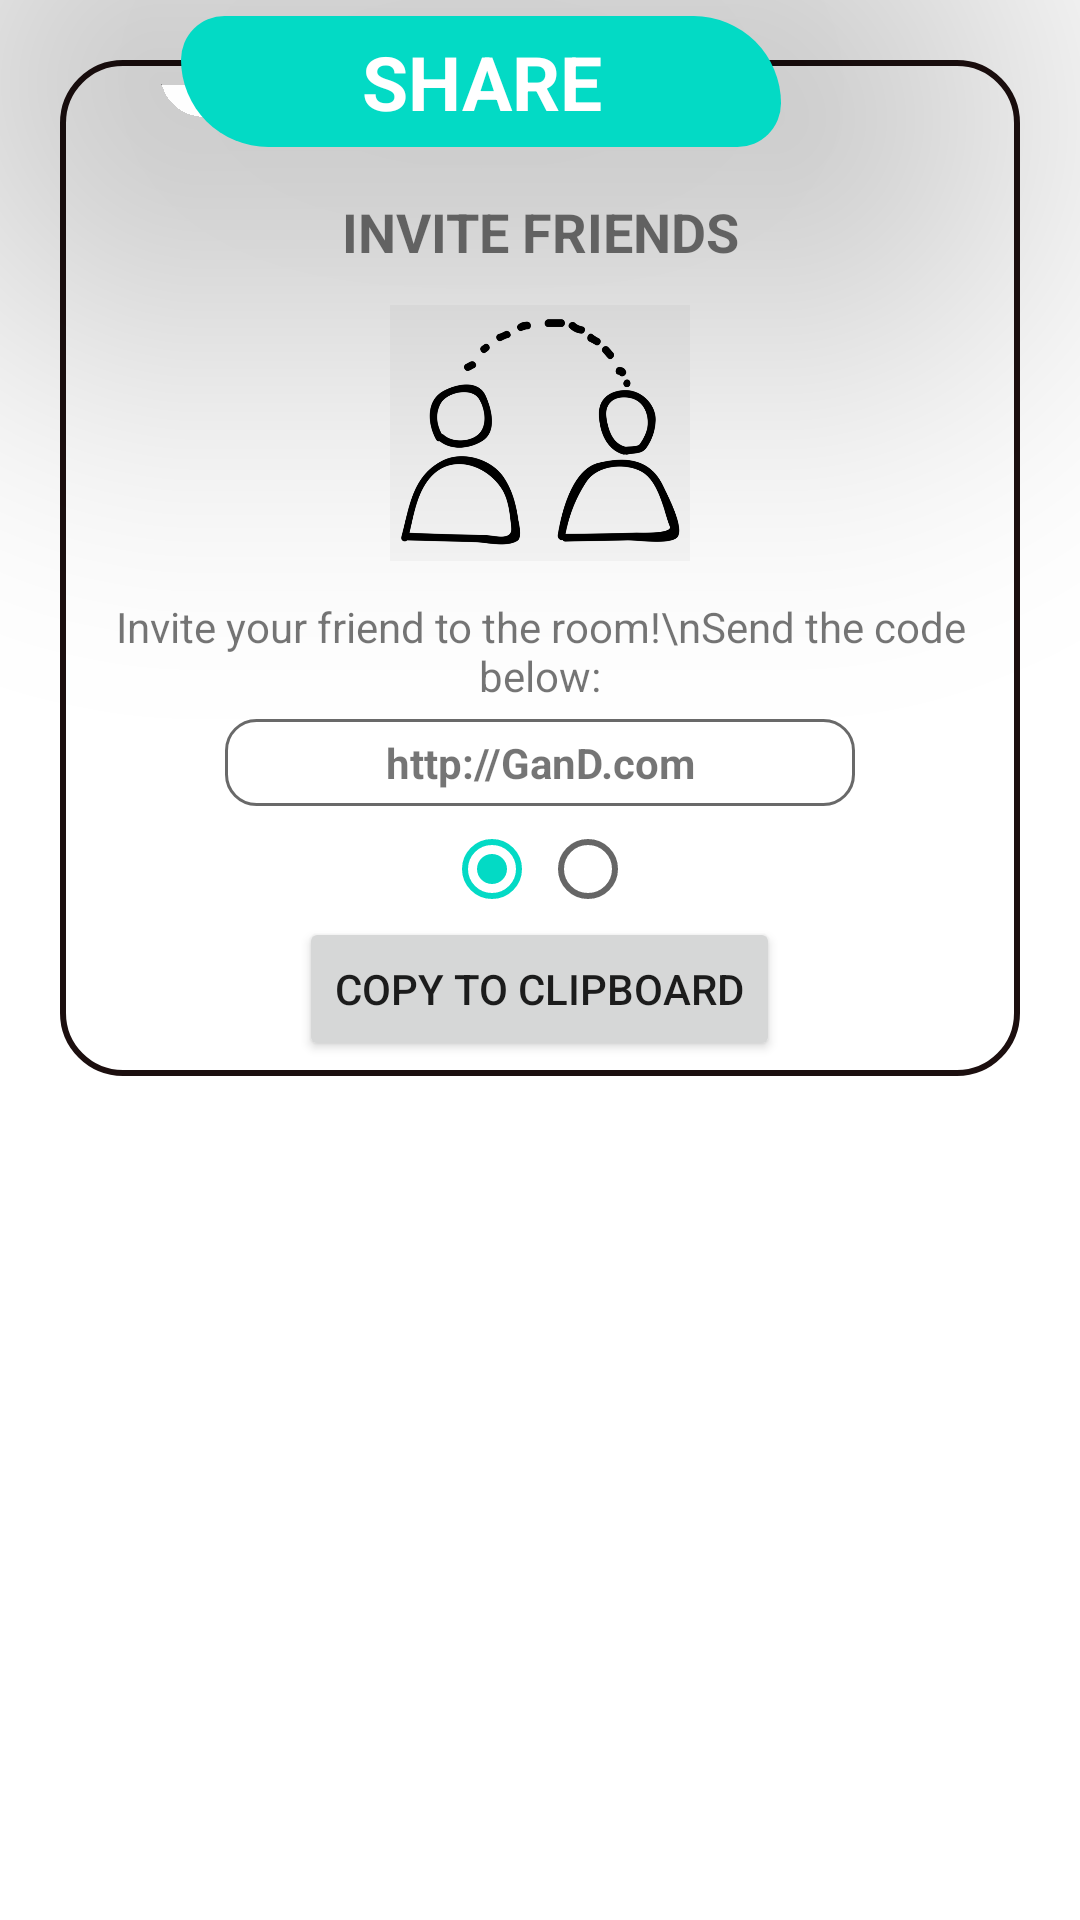

Named icons in this screenshot (1080w x 1920h) and their bounding boxes, bbox(x1, y1, x2, y2):
people connect: bbox(390, 283, 690, 545)
